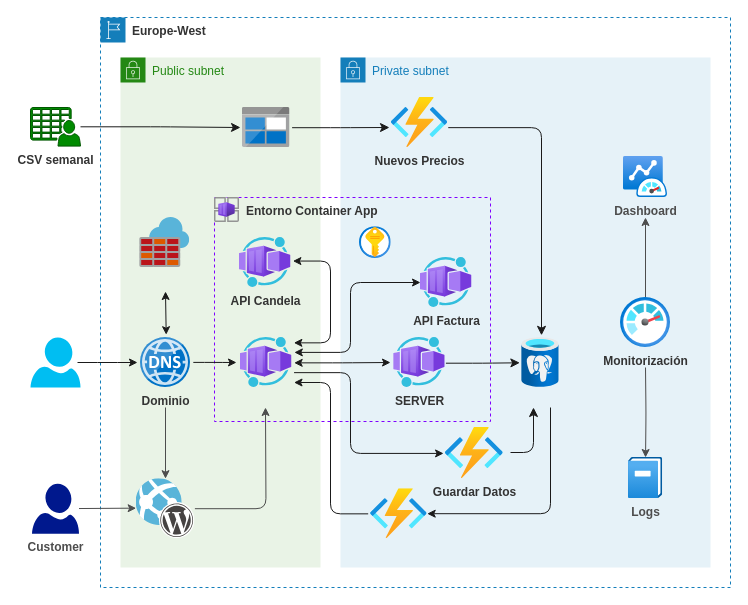
The diagram is 748 pixels wide and 605 high, and some of its shapes have lost their labels. The shapes that lost their labels are listed below. From the top down, each one's centre as x and y in pixels, then its label:
At (266,127): "Almacenamiento".
At (164,242): "Firewall".
At (375,242): "Secretos".
At (55,362): "Usuario".
At (266,362): "CLIENT".
At (540,362): "BBDD".
At (165,508): "Landing".
At (398,513): "Actualizar Tabla".
